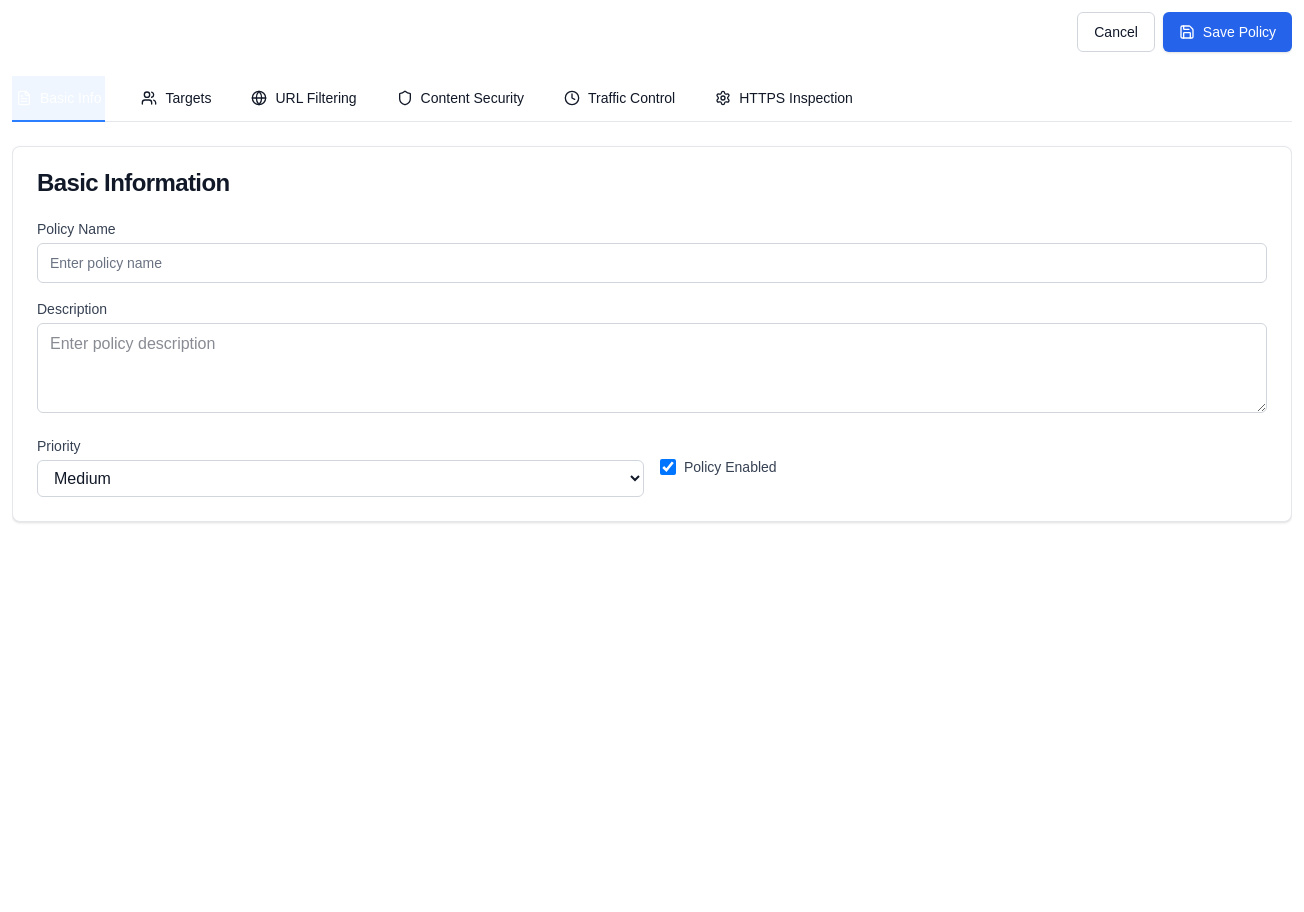
Test: PolicyEditor › validates required fields
Click the button "Save Policy".
click(1227, 32)  # box [1163,12,1292,52]
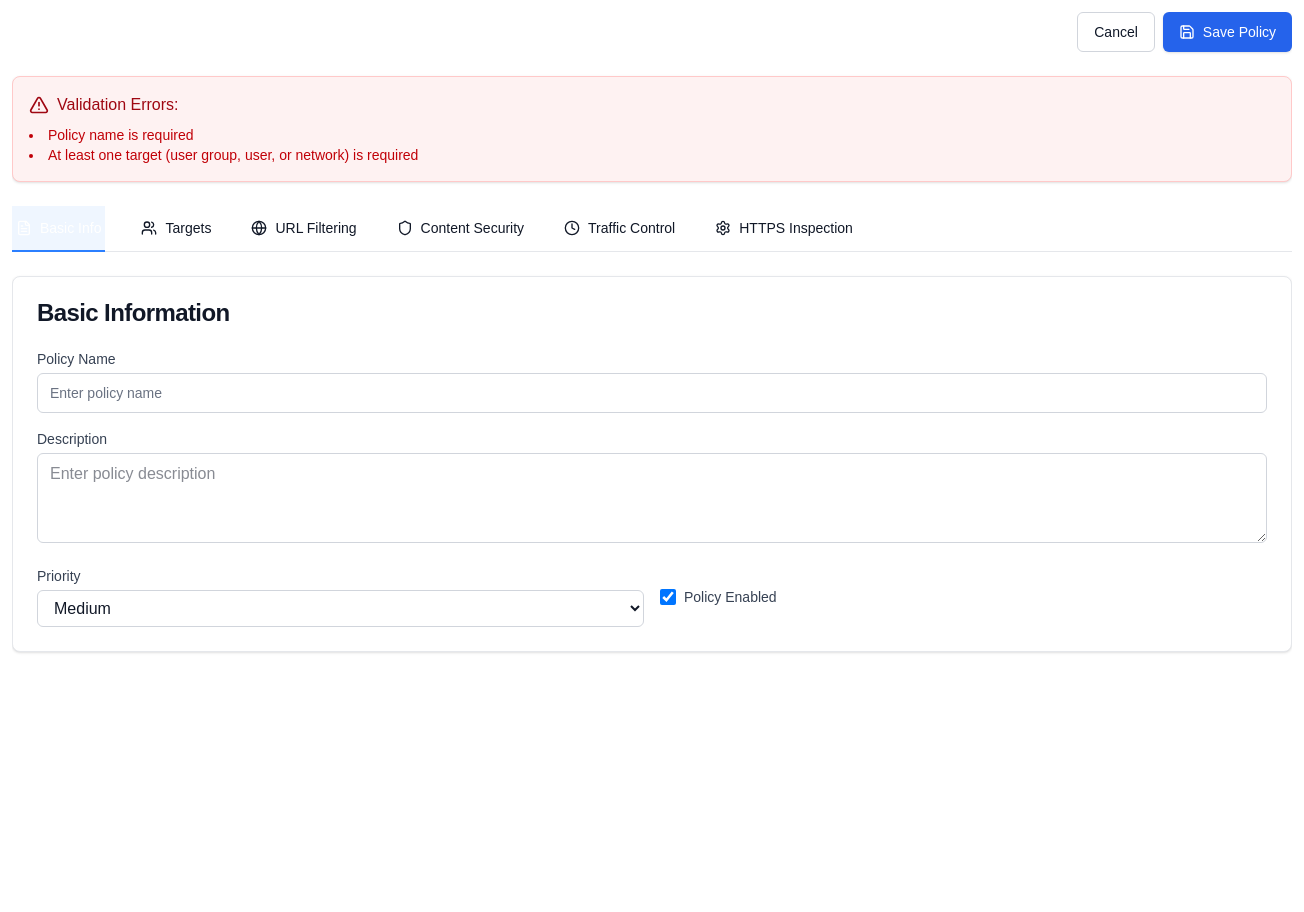
Check: the list item "Policy name is required" is shown, box [48,127,194,143]
